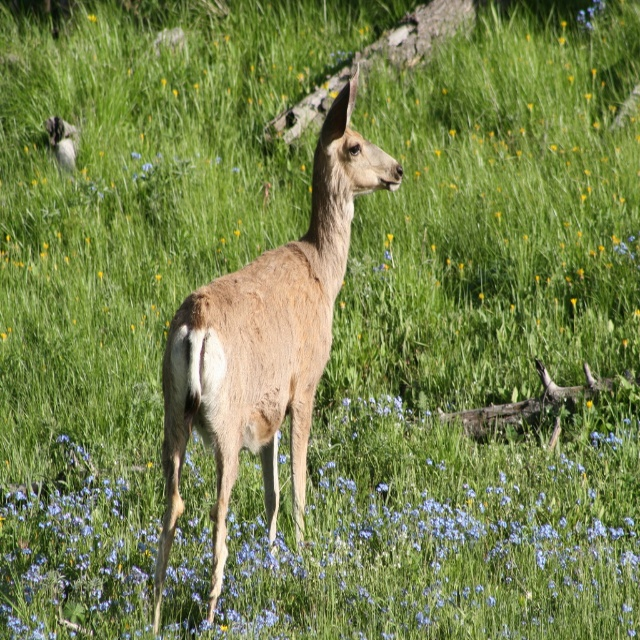Deer: (152, 62, 403, 637)
